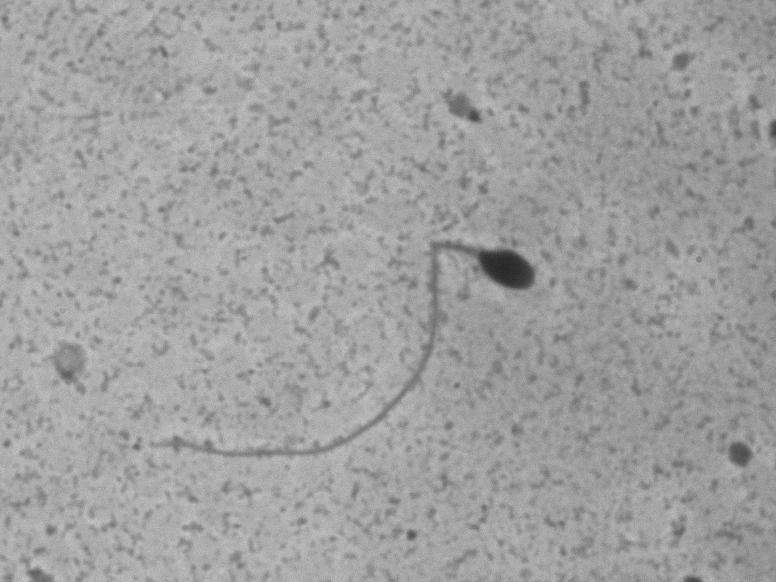Abnormal: (139, 211, 578, 478)
